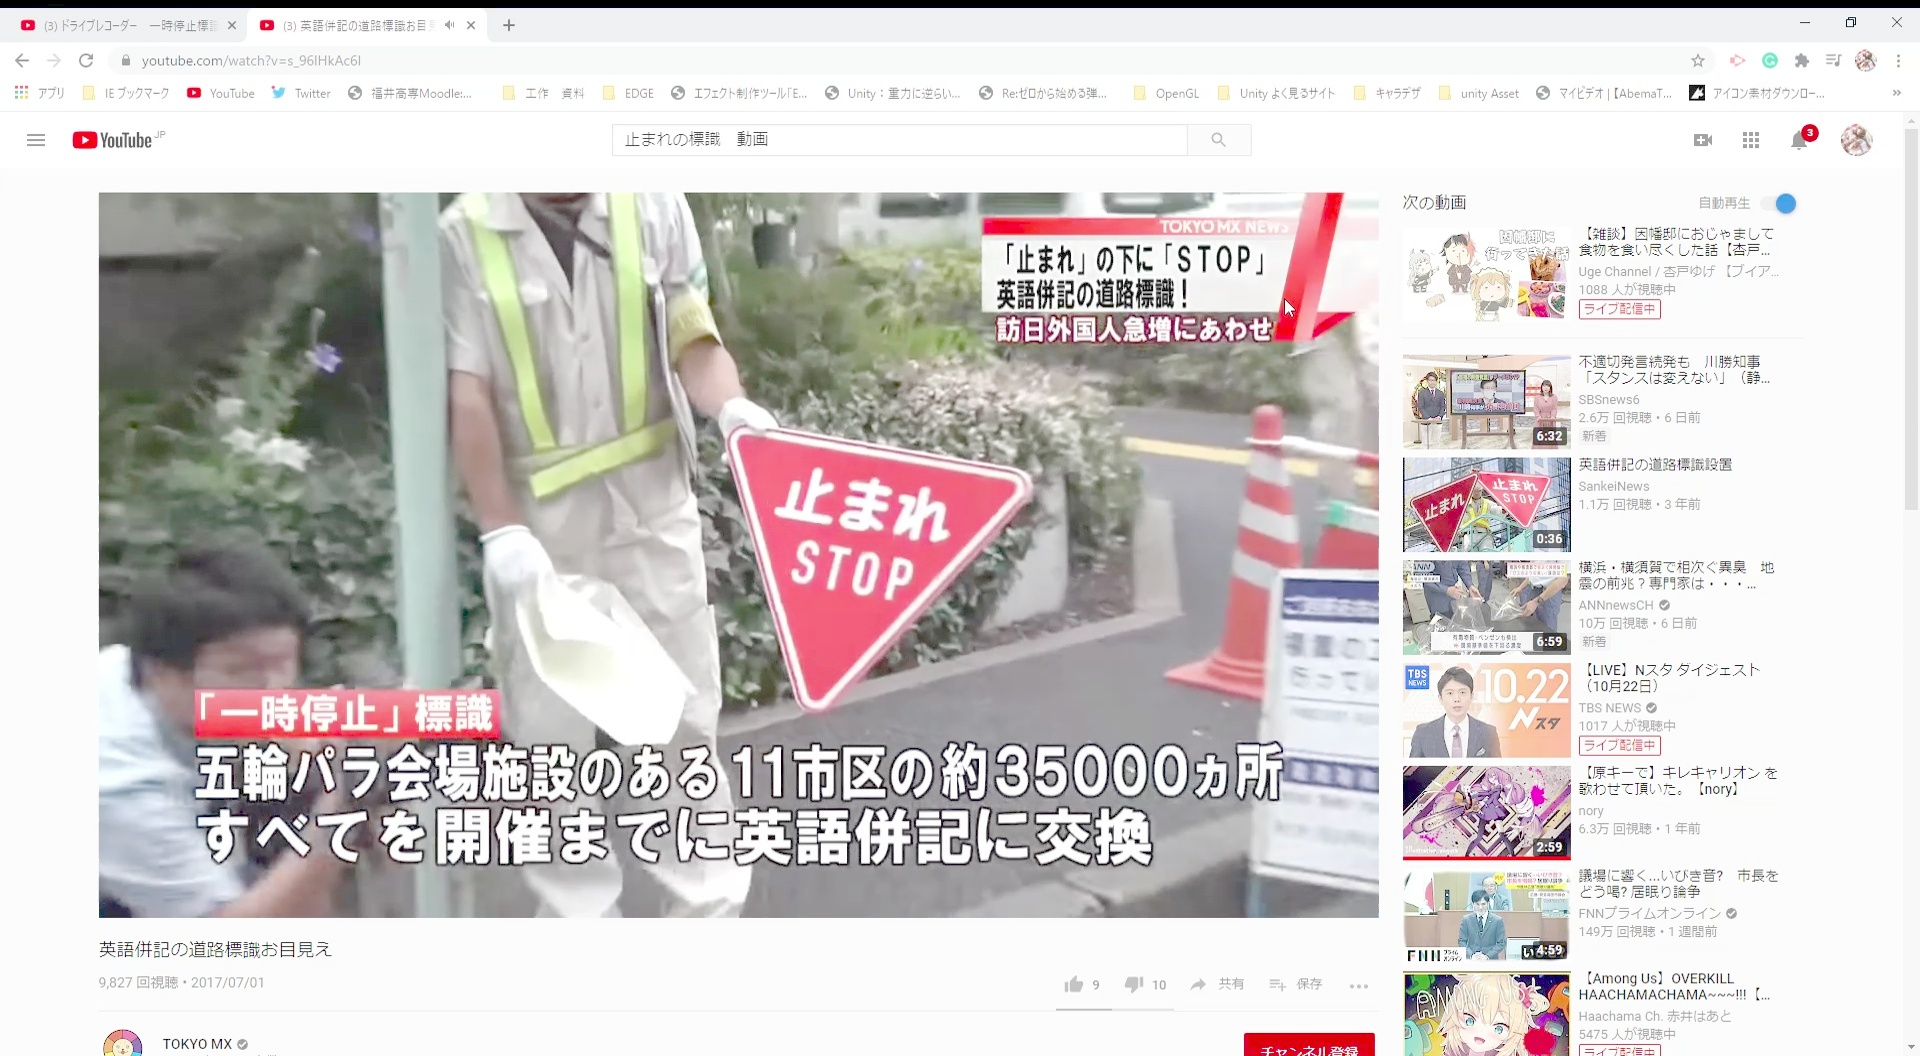Regulatory_sign_triangle: (719, 417, 1049, 717)
